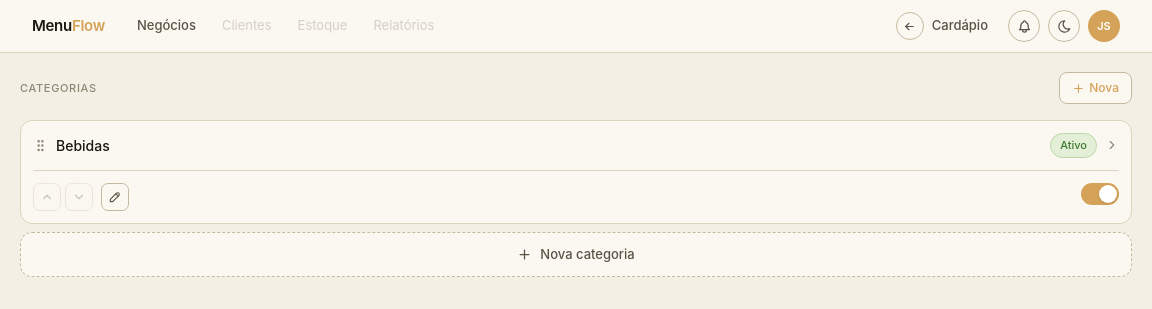
Test: MenuCategories — adicionar › cancela adição ao clicar em X
Click the button with test id "btn-add-category" at (1096, 88), box [1059, 72, 1132, 104]
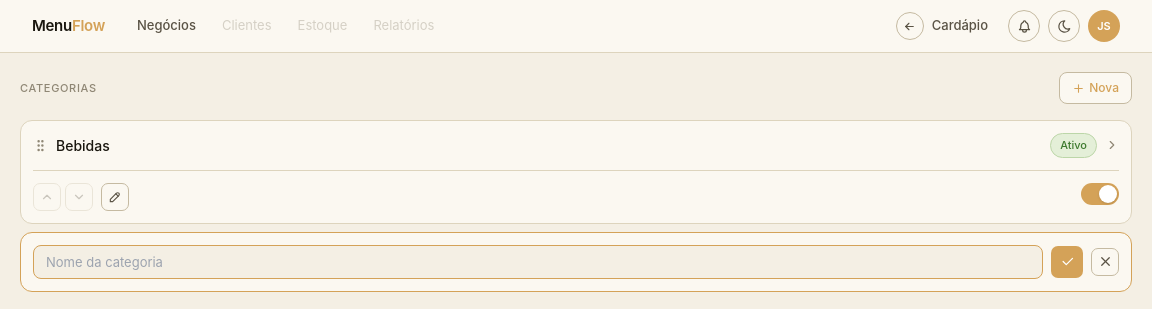
Click the button with test id "btn-cancel-add" at (1105, 262), box [1091, 248, 1119, 276]
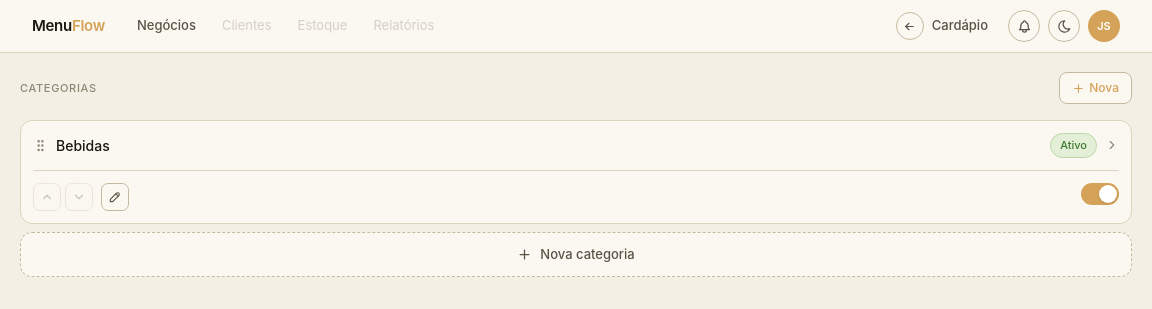
expect the field with test id "add-input" is gone: met
